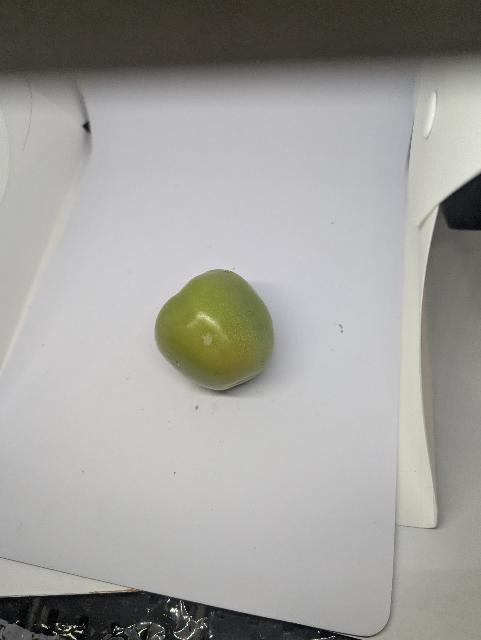green: (154, 269, 278, 393)
